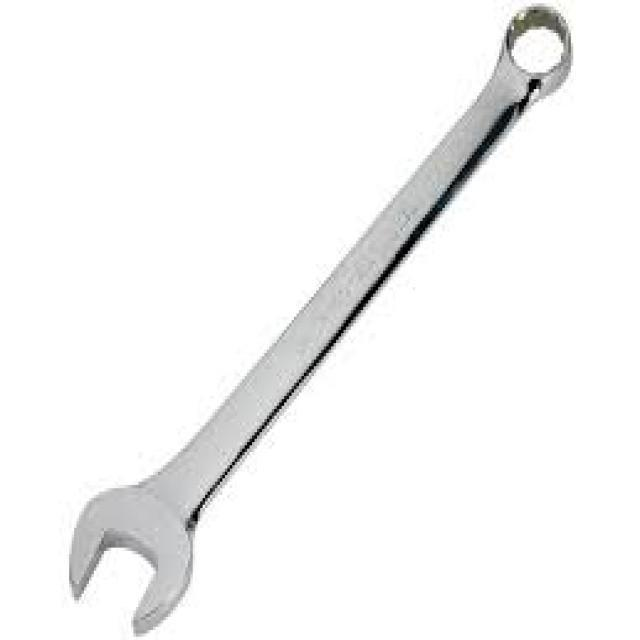wrench: (52, 0, 586, 621)
